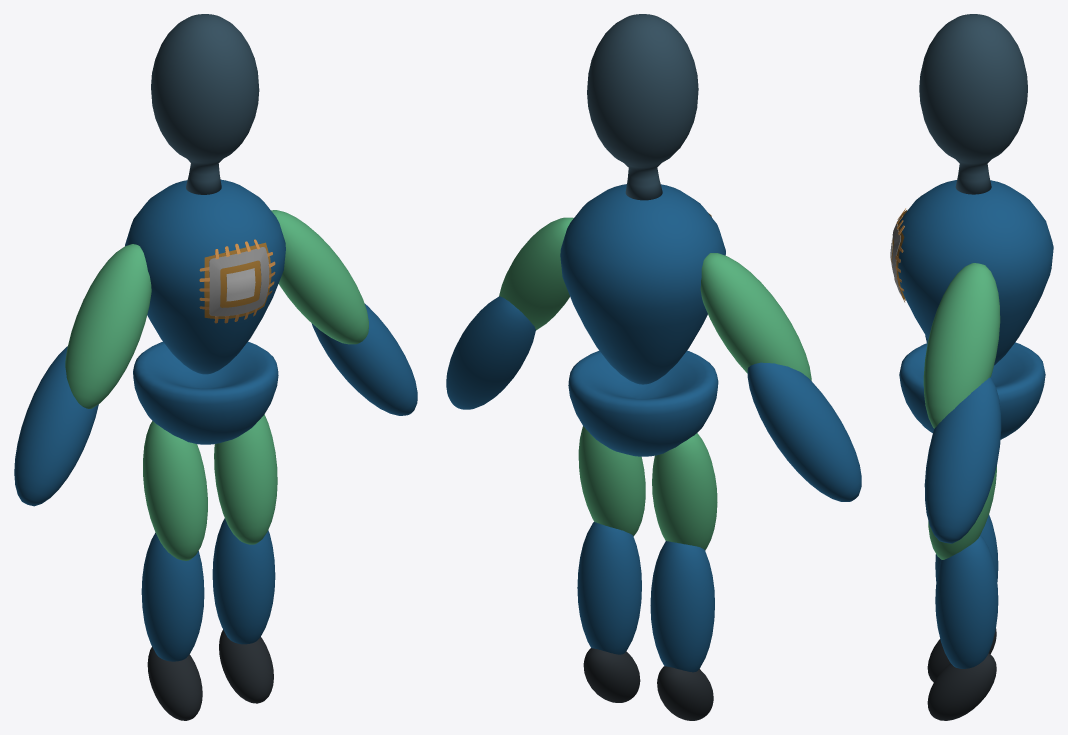
File: Boy_-Bot.fbx
The picture shows the model from 3 angles, left to right: view 1: azimuth 30°, elevation 25°; view 2: azimuth 150°, elevation 25°; view 3: azimuth 270°, elevation 25°; orthographic projection. The views are drawn at different scales.
Visible parts, largest first — view 1: Trunk, head, Waist, Upper arm . R, Lower arm .R, Upper arm .L, Upper leg .R, Upper leg .L, Lower leg .R, Lower leg .L, Lower arm .L, PLatform (+2 smaller); view 2: Trunk, head, Waist, Lower arm .R, Upper arm . R, Lower leg .R, Lower leg .L, Lower arm .L, Upper leg .R, Upper leg .L, Upper arm .L, Feet .R (+1 smaller); view 3: Trunk, head, Lower arm .L, Upper arm .L, Lower leg .L, Waist, Feet .L, Upper leg .L, PLatform, Feet .R, Lower leg .R.
Boxes of the visible parts, <box> form: Trunk: <box>125,179,285,374</box>; head: <box>151,14,259,194</box>; Waist: <box>133,341,278,444</box>; Upper arm . R: <box>65,244,151,408</box>; Lower arm .R: <box>14,346,98,506</box>; Upper arm .L: <box>271,210,368,344</box>; Upper leg .R: <box>143,421,207,560</box>; Upper leg .L: <box>214,414,277,544</box>; Lower leg .R: <box>141,532,204,661</box>; Lower leg .L: <box>212,518,275,644</box>; Lower arm .L: <box>311,303,417,415</box>; PLatform: <box>199,239,275,323</box>; Trunk: <box>560,184,725,384</box>; head: <box>587,14,698,200</box>; Waist: <box>568,350,718,456</box>; Lower arm .R: <box>747,362,861,501</box>; Upper arm . R: <box>700,253,811,380</box>; Lower leg .R: <box>650,541,714,672</box>; Lower leg .L: <box>577,521,641,654</box>; Lower arm .L: <box>446,296,535,409</box>; Upper leg .R: <box>652,433,717,550</box>; Upper leg .L: <box>578,426,645,536</box>; Upper arm .L: <box>499,217,573,330</box>; Feet .R: <box>657,666,713,720</box>; Trunk: <box>898,180,1053,365</box>; head: <box>919,14,1027,194</box>; Lower arm .L: <box>924,377,1001,543</box>; Upper arm .L: <box>923,263,1000,428</box>; Lower leg .L: <box>935,535,998,668</box>; Waist: <box>899,342,1045,439</box>; Feet .L: <box>927,653,996,720</box>; Upper leg .L: <box>928,466,996,559</box>; PLatform: <box>890,208,907,302</box>; Feet .R: <box>927,629,996,682</box>; Lower leg .R: <box>935,514,998,581</box>.
Bounding box in the file's own units: 8.46 × 13.9 × 3.01.
